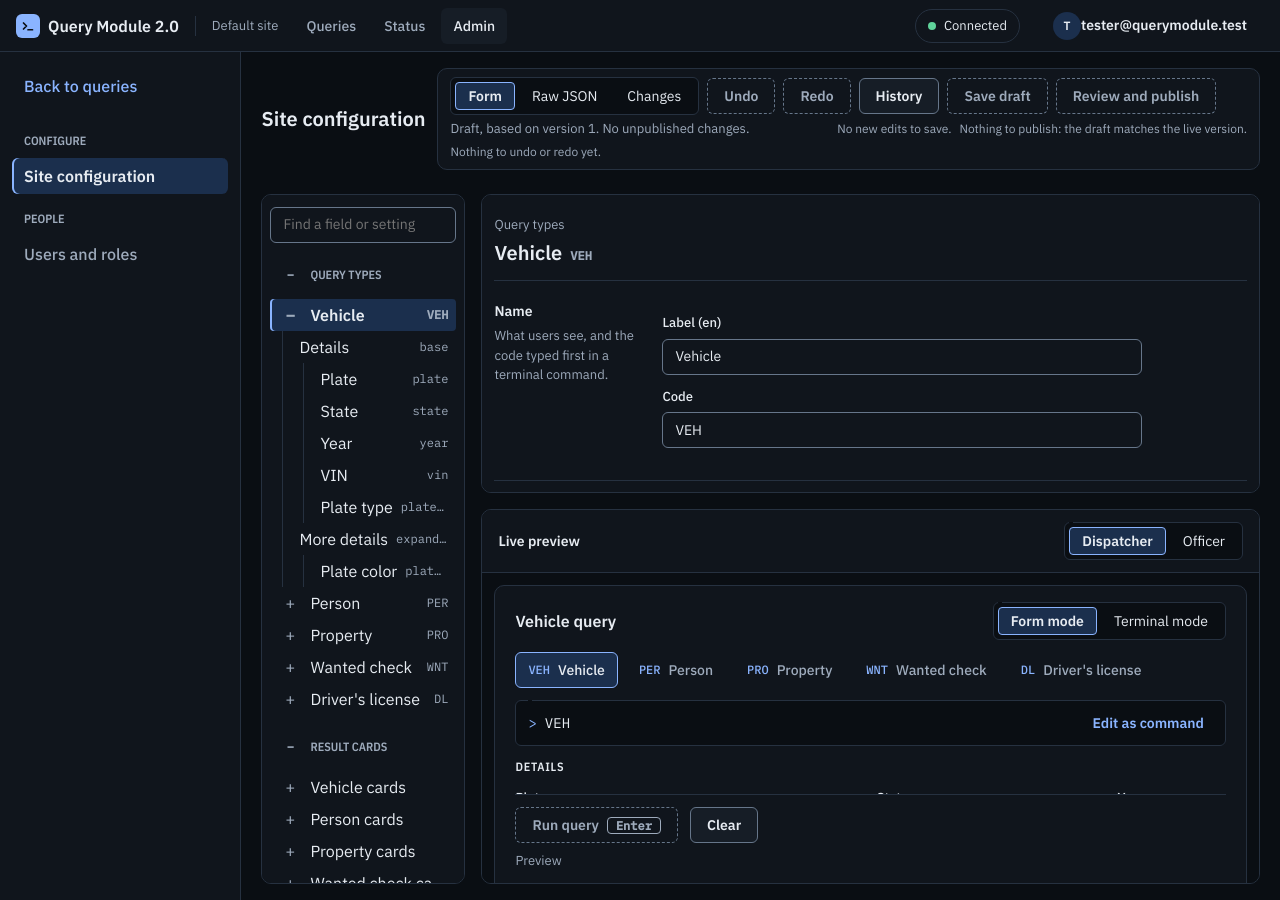
Test: ADR-0011 admin shell (Task 30, BR-001, FR-060) › the header Queries link goes back to the query panel from /admin; it is the current page on the panel
Expected: the header is shown, [0,0,1279,52]
Expected: the heading "Site configuration" is shown, [261,104,425,134]
Click the link "Queries" at (331, 26), box [306,16,356,34]
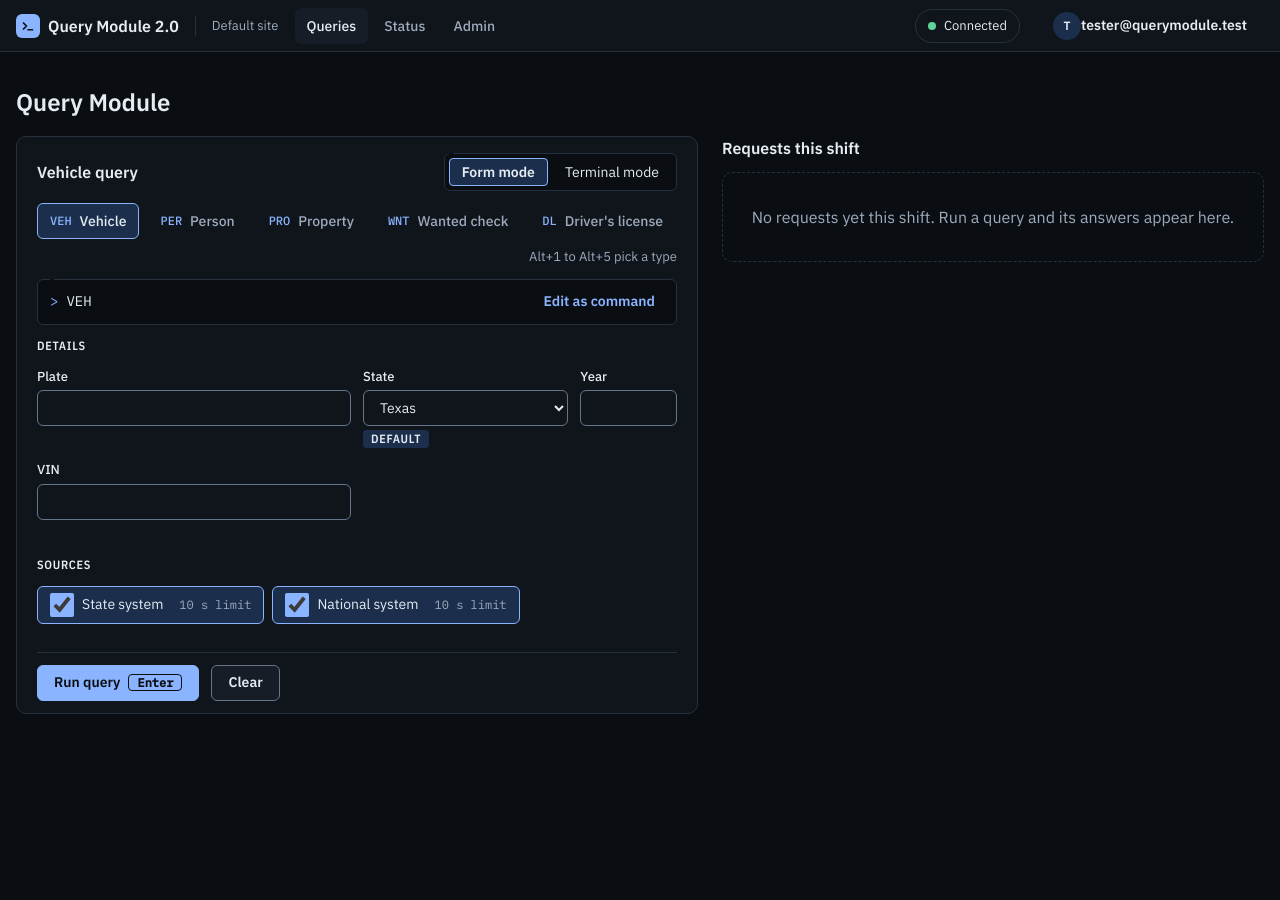
Now the heading "Query Module" is shown, box [16,86,170,118]
